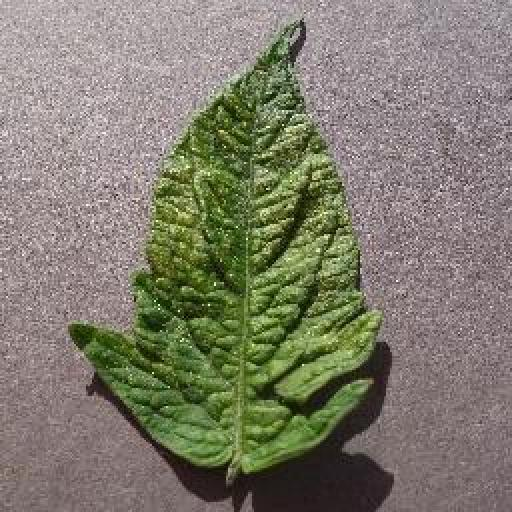Spider Mites: (67, 21, 381, 468)
